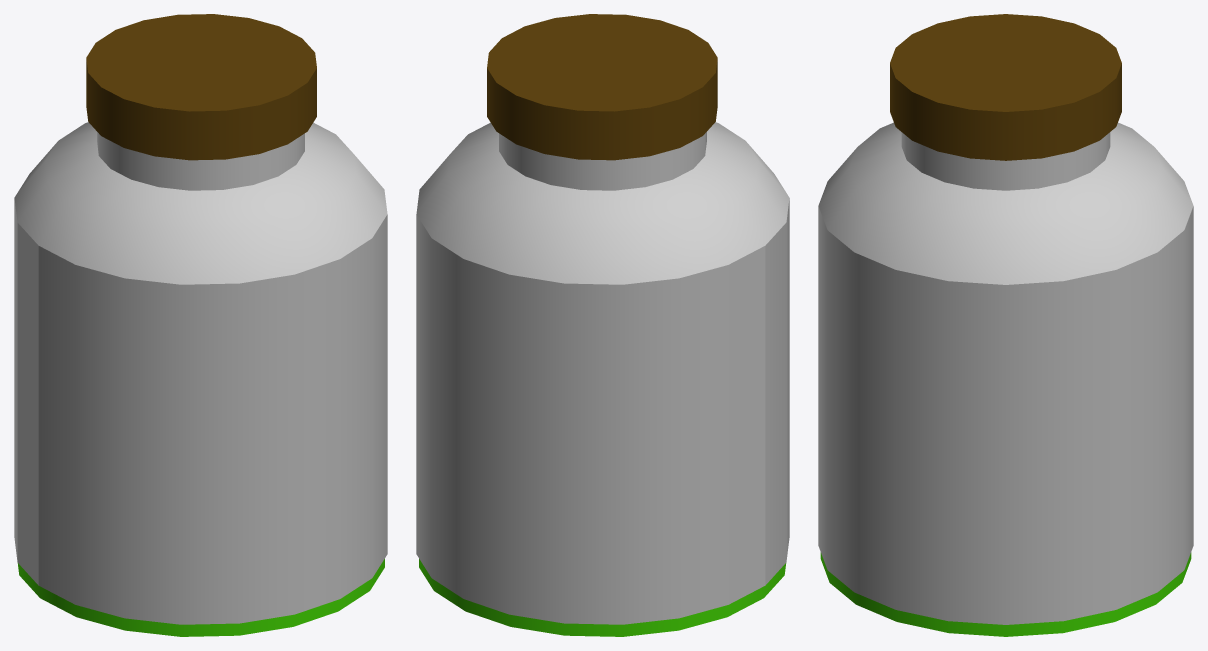
The model's file is potion 2.fbx.
3 renders of one model, left to right at view 1: azimuth 30°, elevation 25°; view 2: azimuth 150°, elevation 25°; view 3: azimuth 270°, elevation 25°, orthographic.
Visible parts, largest first — view 1: pasted__pasted__pCylinder230, pasted__pasted__pasted__pCylinder230, pasted__pasted__pCylinder240; view 2: pasted__pasted__pCylinder230, pasted__pasted__pasted__pCylinder230, pasted__pasted__pCylinder240; view 3: pasted__pasted__pCylinder230, pasted__pasted__pasted__pCylinder230, pasted__pasted__pCylinder240.
Part boxes in pixels (left/top/right/bottom): pasted__pasted__pCylinder230: left=14, top=122, right=387, bottom=624; pasted__pasted__pasted__pCylinder230: left=86, top=14, right=316, bottom=160; pasted__pasted__pCylinder240: left=17, top=559, right=384, bottom=636; pasted__pasted__pCylinder230: left=416, top=122, right=789, bottom=624; pasted__pasted__pasted__pCylinder230: left=487, top=14, right=717, bottom=160; pasted__pasted__pCylinder240: left=419, top=559, right=786, bottom=636; pasted__pasted__pCylinder230: left=818, top=122, right=1193, bottom=624; pasted__pasted__pasted__pCylinder230: left=890, top=14, right=1121, bottom=160; pasted__pasted__pCylinder240: left=820, top=552, right=1191, bottom=636.
Size of the model in its own units: 0.0629 by 0.0918 by 0.0629.
Materials: 2 (2 with a texture image).
